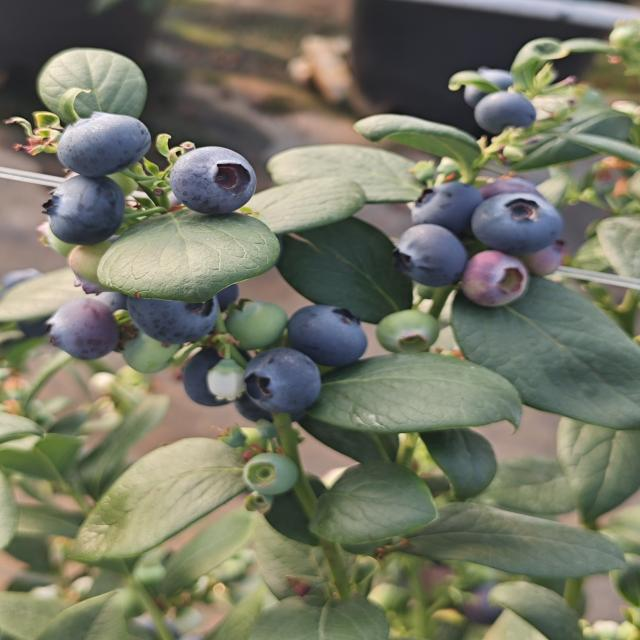ripe: (164, 144, 265, 218), (46, 112, 166, 174), (30, 174, 130, 247), (123, 278, 225, 349), (234, 334, 322, 408), (287, 301, 368, 369), (407, 171, 486, 237), (171, 341, 242, 411), (40, 303, 124, 355), (472, 194, 555, 246), (451, 566, 522, 626), (475, 164, 550, 215), (448, 56, 524, 105), (470, 90, 546, 135), (409, 225, 472, 278), (461, 250, 528, 294)
